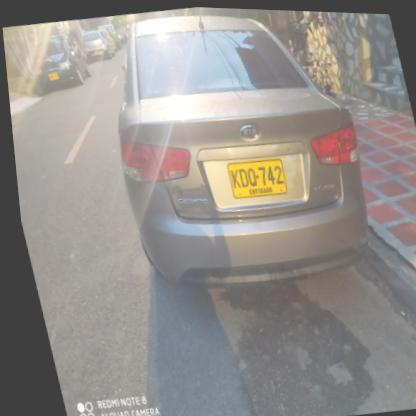placa: (219, 149, 289, 202)
